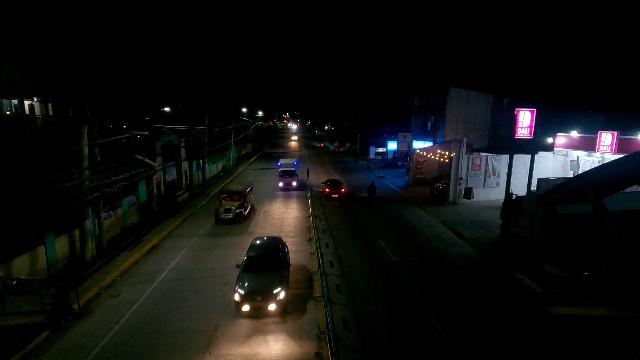car: (231, 236, 292, 321), (320, 178, 344, 199)
jeepney: (213, 181, 254, 227)
truck: (277, 156, 299, 192)
